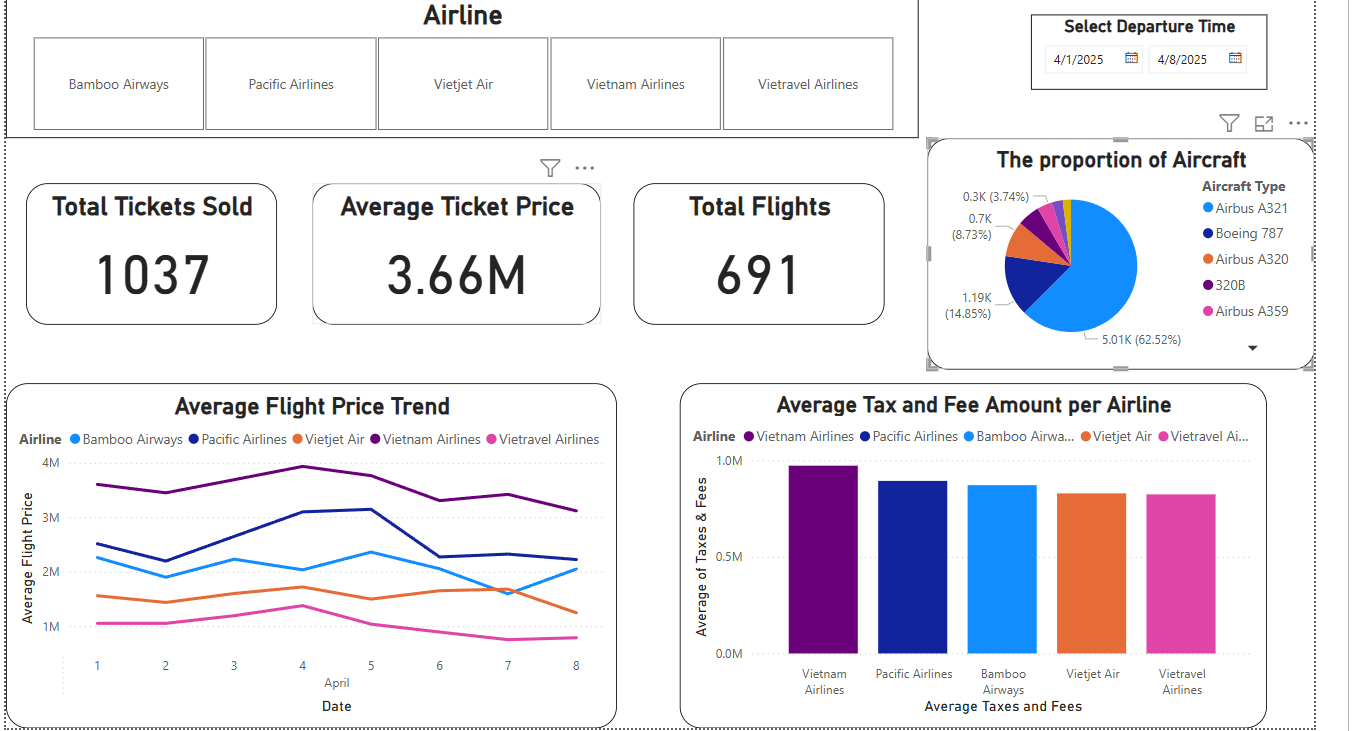

The dashboard page shown, as its layout file describes it:
{"tool":"powerbi","page":{"name":"Page 1","canvas":[1280,720],"ordinal":0},"visuals":[{"type":"slicer","title":"Airline","fields":{"Values":["AIRLINE.Airline"]},"box":[0,6.1,892.7,137],"z":0},{"type":"card","title":"Total Tickets Sold","fields":{"Values":["Sum(TICKET.Number of Tickets)"]},"box":[19.6,187.1,245.8,138.2],"z":1000},{"type":"lineChart","title":"Average Flight Price Trend","fields":{"Y":["Avg(TICKET.Price per Ticket)"],"Series":["AIRLINE.Airline"],"Category":["TICKET.Departure Time.Variation.Date Hierarchy.Month","TICKET.Departure Time.Variation.Date Hierarchy.Day"]},"box":[0,382.7,598,337.5],"z":2000},{"type":"slicer","title":"Select Departure Time","fields":{"Values":["TICKET.Departure Time"]},"box":[1002.7,22,231.1,73.4],"z":3000},{"type":"lineStackedColumnComboChart","title":"Average Tax and Fee Amount per Airline","fields":{"Category":["AIRLINE.Airline"],"Y":["Avg(TICKET.Taxes & Fees)"],"Series":["AIRLINE.Airline"]},"box":[659.1,382.7,574.7,337.5],"z":4000},{"type":"pieChart","title":"The proportion of Aircraft","fields":{"Category":["FLIGHT_SCHEDULE.Aircraft Type"],"Y":["CountNonNull(FLIGHT_SCHEDULE.IndexColumn)"]},"box":[901.2,143.1,379.1,226.2],"z":5000},{"type":"card","title":"Average Ticket Price","fields":{"Values":["Avg(TICKET.Total Price)"]},"box":[299.6,187.1,282.5,138.2],"z":5002},{"type":"card","title":"Total Flights","fields":{"Values":["Count(TICKET.CompositeKey1)"]},"box":[613.9,187.1,245.8,138.2],"z":5003}]}

Visuals, with their boxes on the page's 1280x720 design canvas (x1, y1, x2, y2). These are canvas units, not pixel positions in the 1361x731 screenshot, which may show the page scaled, cropped or inside an application window:
"Airline" slicer: <box>0,6,893,143</box>
"Total Tickets Sold" card: <box>20,187,265,325</box>
"Average Flight Price Trend" lineChart: <box>0,383,598,720</box>
"Select Departure Time" slicer: <box>1003,22,1234,95</box>
"Average Tax and Fee Amount per Airline" lineStackedColumnComboChart: <box>659,383,1234,720</box>
"The proportion of Aircraft" pieChart: <box>901,143,1280,369</box>
"Average Ticket Price" card: <box>300,187,582,325</box>
"Total Flights" card: <box>614,187,860,325</box>
